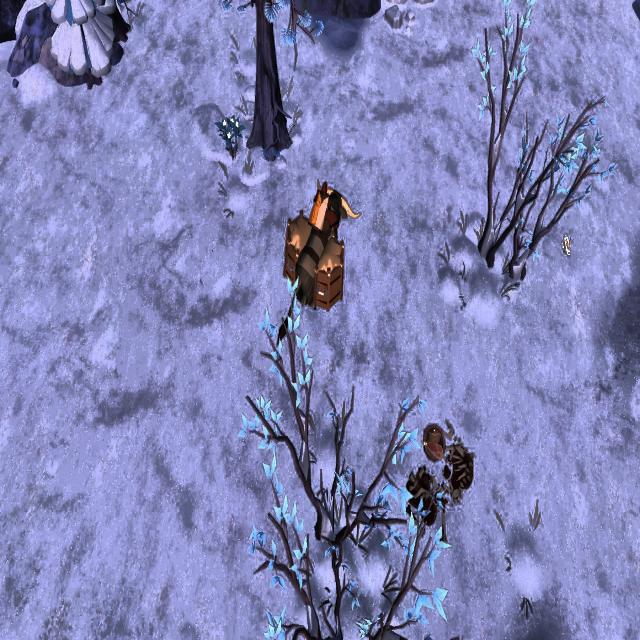fiber_t4: (217, 110, 243, 155)
